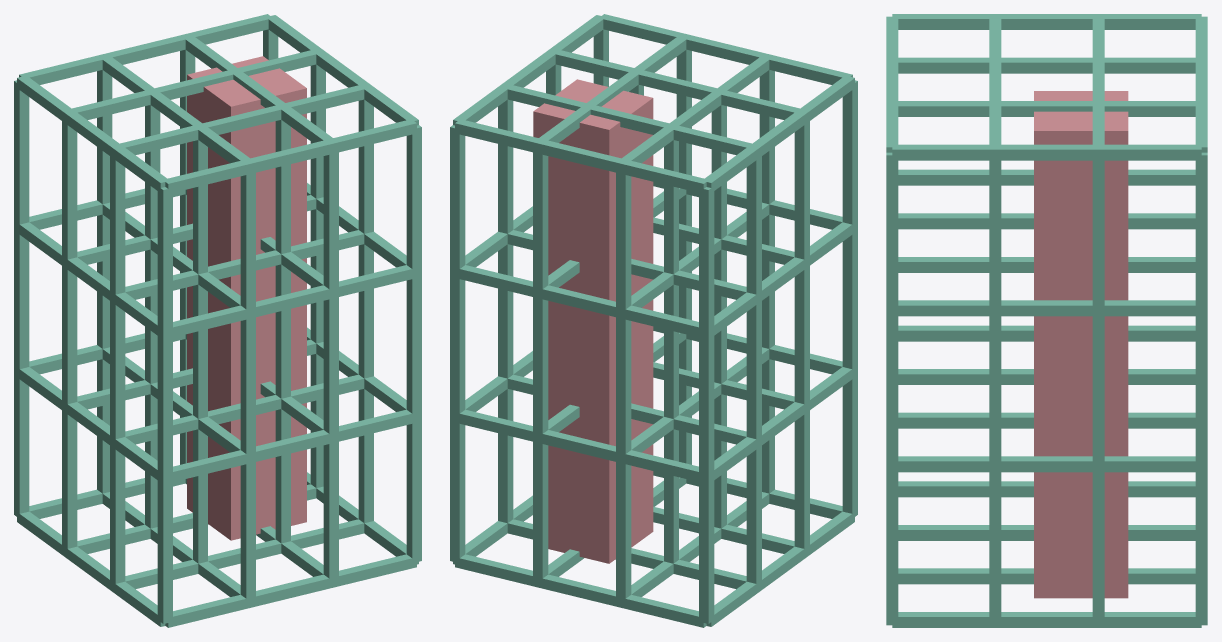
The model's file is folie_tag_102.glb.
3 renders of one model, left to right at view 1: azimuth 30°, elevation 25°; view 2: azimuth 150°, elevation 25°; view 3: azimuth 270°, elevation 25°, orthographic. The views are drawn at different scales.
Parts seen in each view (by area): view 1: folie_tag_102_00_cage, folie_tag_102_core; view 2: folie_tag_102_00_cage, folie_tag_102_core; view 3: folie_tag_102_00_cage, folie_tag_102_core.
Boxes of the visible parts, left/top/right/bottom form: folie_tag_102_00_cage: left=14, top=14, right=421, bottom=627; folie_tag_102_core: left=187, top=56, right=306, bottom=540; folie_tag_102_00_cage: left=450, top=14, right=857, bottom=627; folie_tag_102_core: left=533, top=79, right=653, bottom=563; folie_tag_102_00_cage: left=886, top=14, right=1207, bottom=627; folie_tag_102_core: left=1034, top=91, right=1128, bottom=598.
Bounding box in the file's own units: 3.74 × 6.14 × 3.74.
